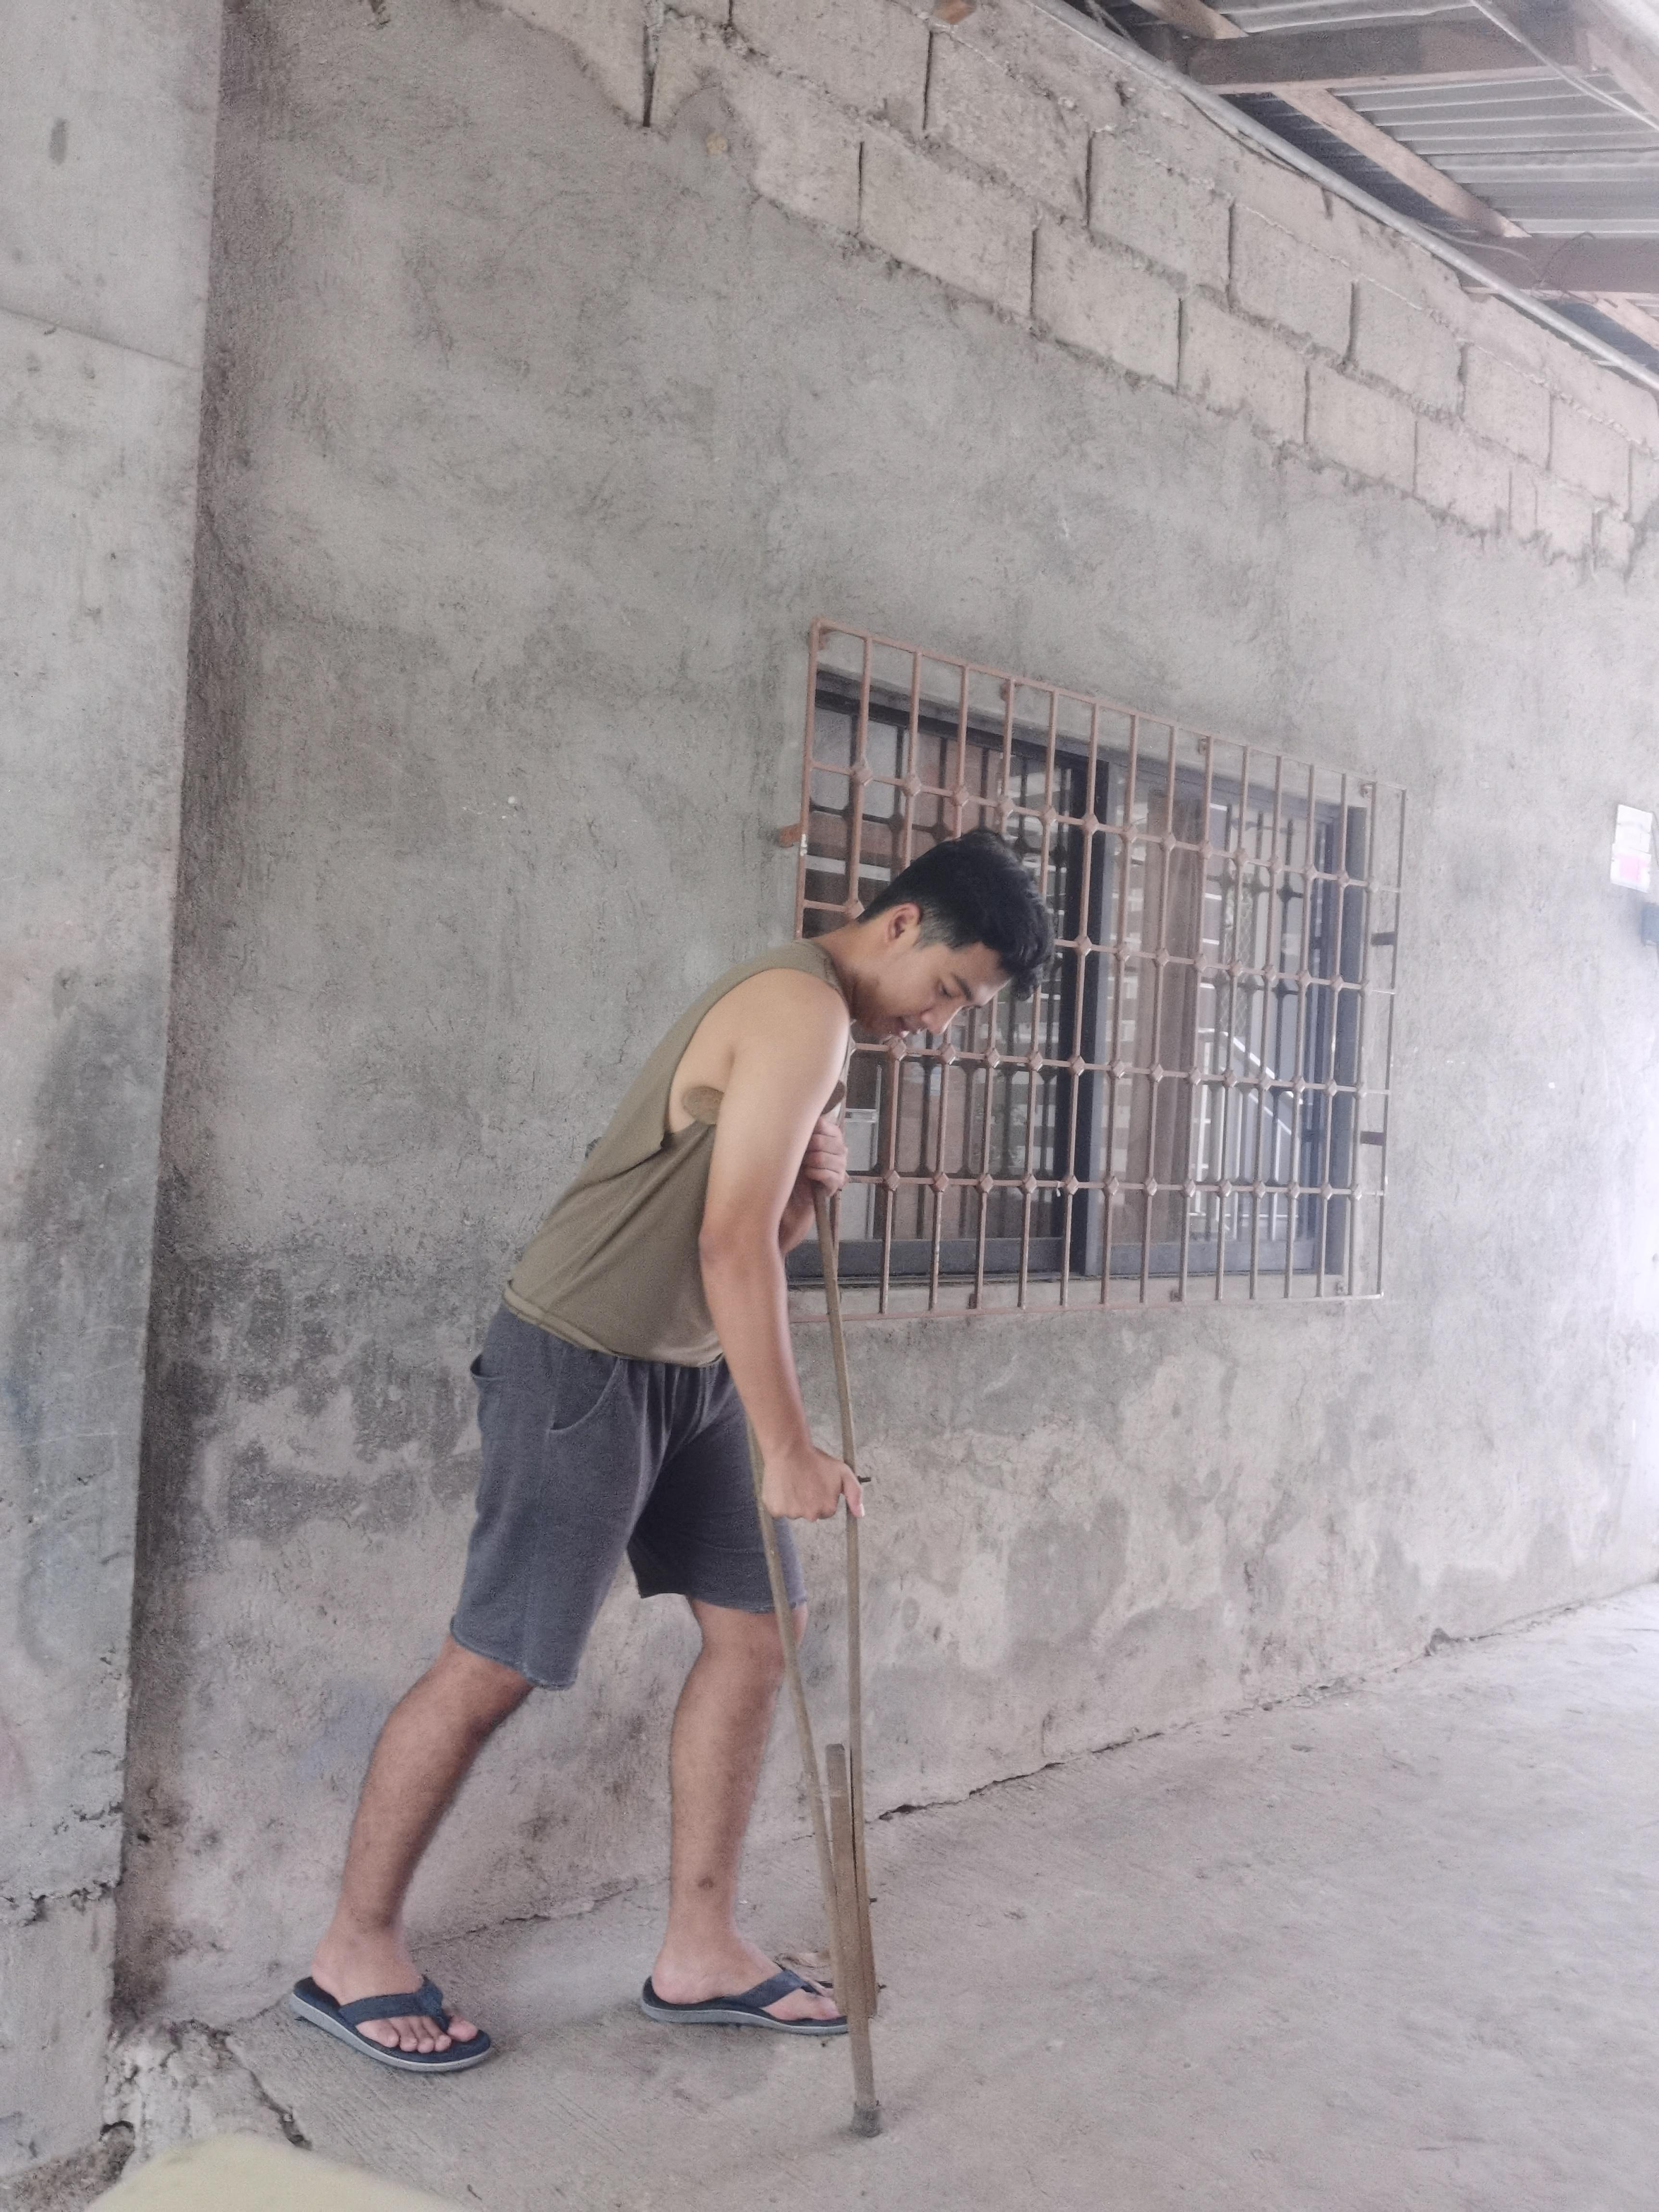crutches: (293, 833, 1054, 2135)
